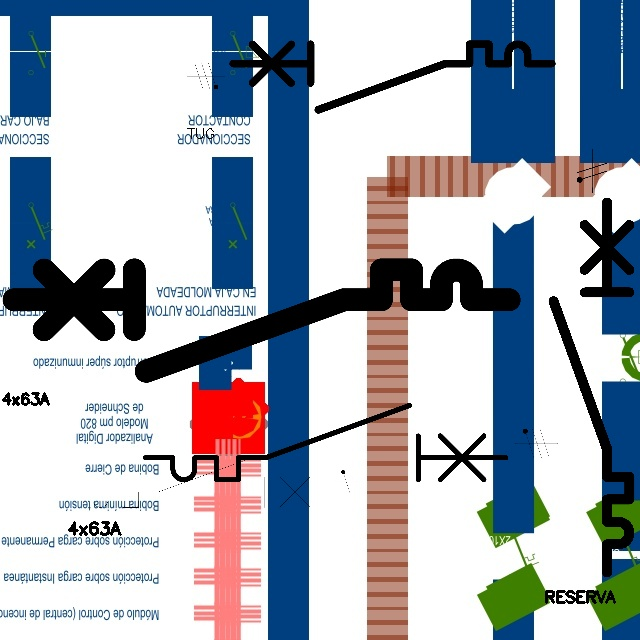interruptor_termomagnetico: (1, 257, 522, 384), (544, 193, 639, 582), (136, 396, 515, 489), (224, 36, 559, 118), (67, 449, 332, 514)
